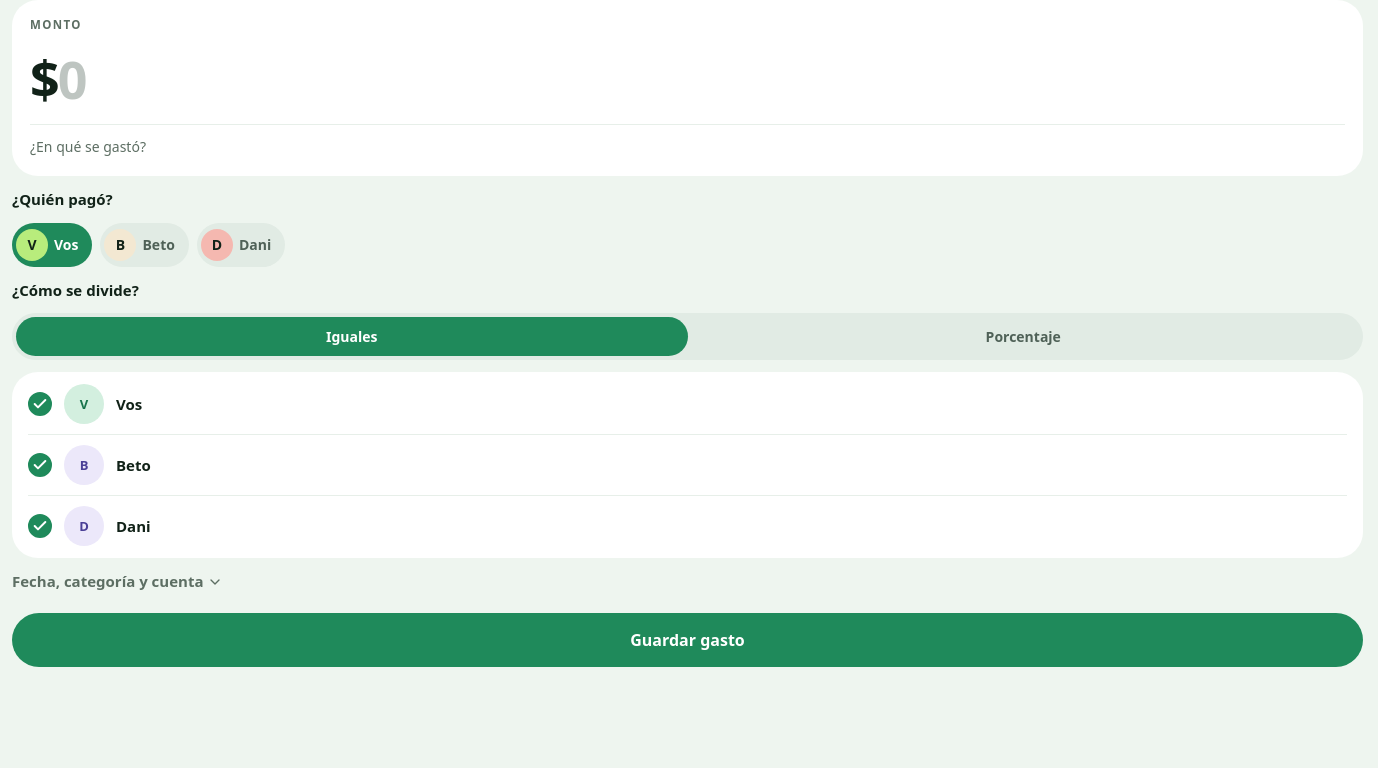
SharedExpenseForm › previews an equal split of 100 with the extra cent on the payer
The image size is (1378, 768).
In the field named "Monto": (73, 79) [58, 43, 87, 114], type "100"
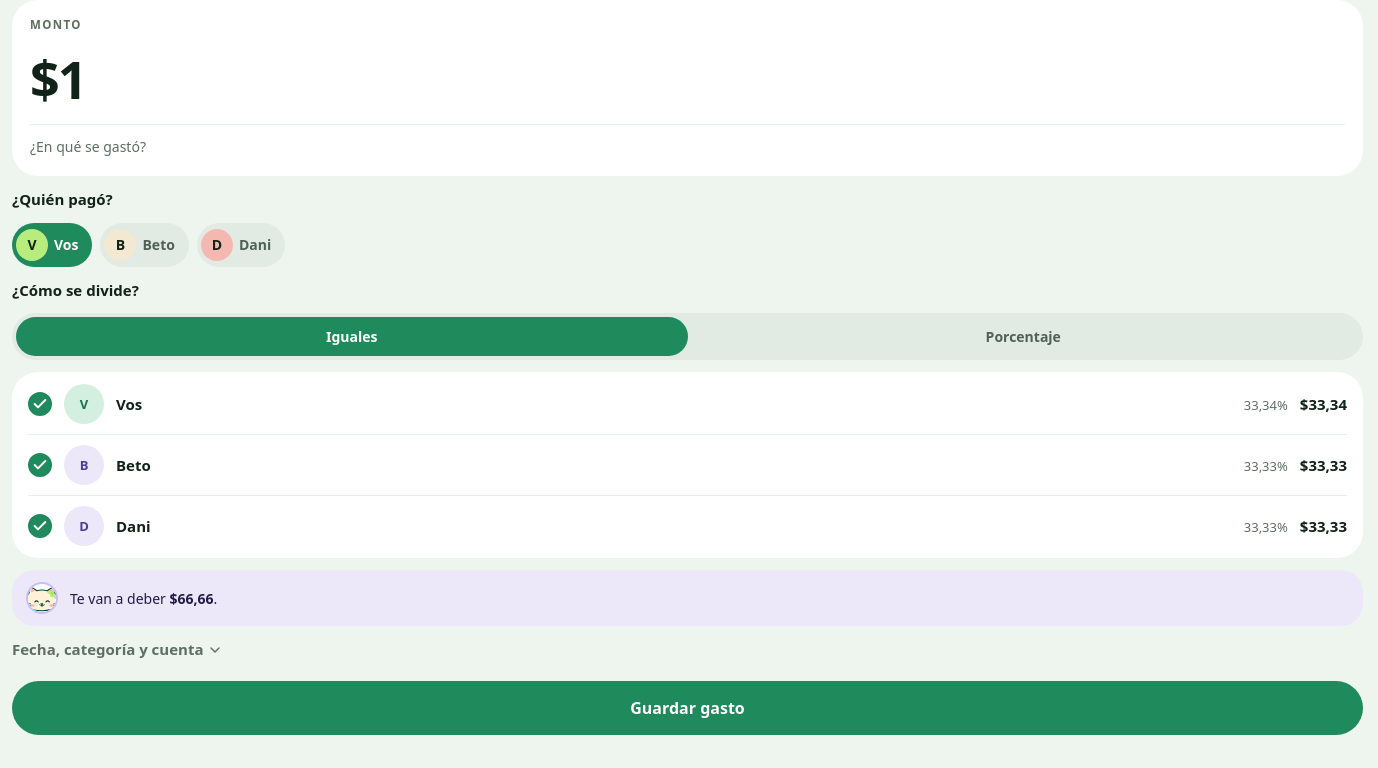
Expected: the text "$33,34" is shown, [1300, 393, 1347, 416]
Expected: the 1st text "$33,33" is shown, [1300, 454, 1347, 476]
Expected: the 2nd text "$33,33" is shown, [1300, 515, 1347, 538]
